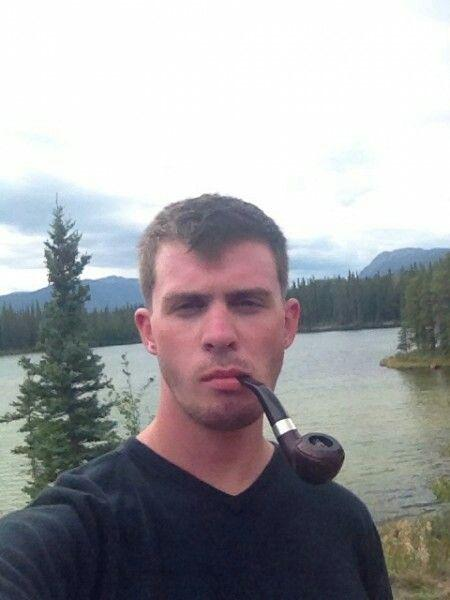trubka: (241, 377, 344, 483)
